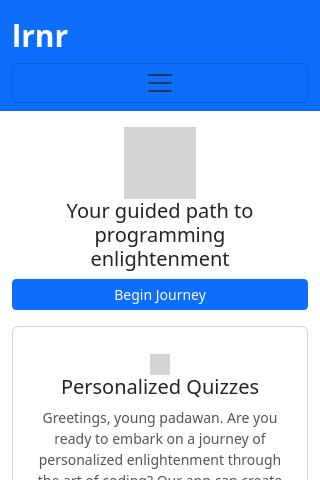
Scenario: Responsive Check - Quiz Generation Page › should navigate to the Quiz Generation page and check responsiveness
Click the button with class "navbar-toggler": click(160, 83) top-left (12, 63), bottom-right (308, 103)
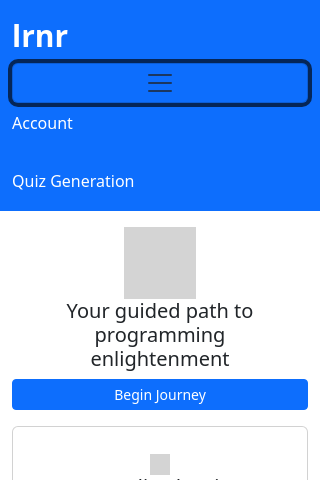
Expected: the link "Quiz Generation" is shown, top-left (12, 170), bottom-right (134, 192)
Scroll
Click the link "Quiz Generation": click(74, 181) top-left (12, 170), bottom-right (135, 192)
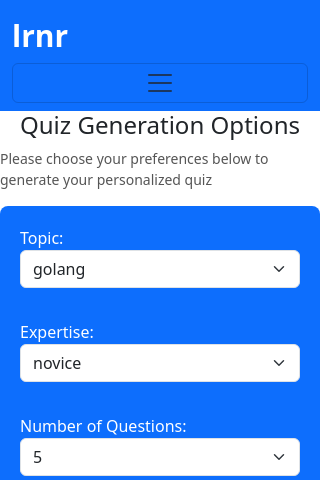
Expected: the form is shown, top-left (0, 206), bottom-right (319, 479)
